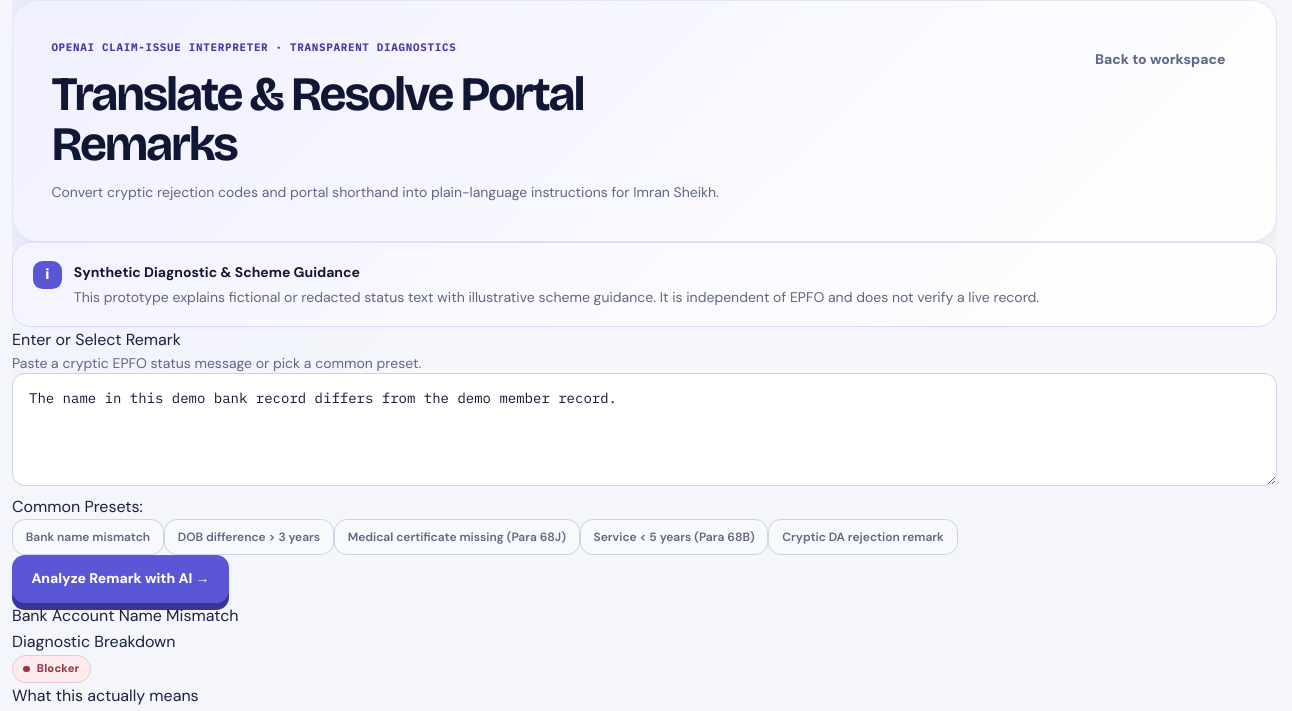
Test: ClaimIssueInterpreter › blocks a sensitive identifier before the AI analysis request
The width and height of the screenshot is (1292, 711).
Replace the text in the text box named "Portal remark text for analysis" with "My UAN is 109988776655" at (644, 430), box [12,373,1277,486]
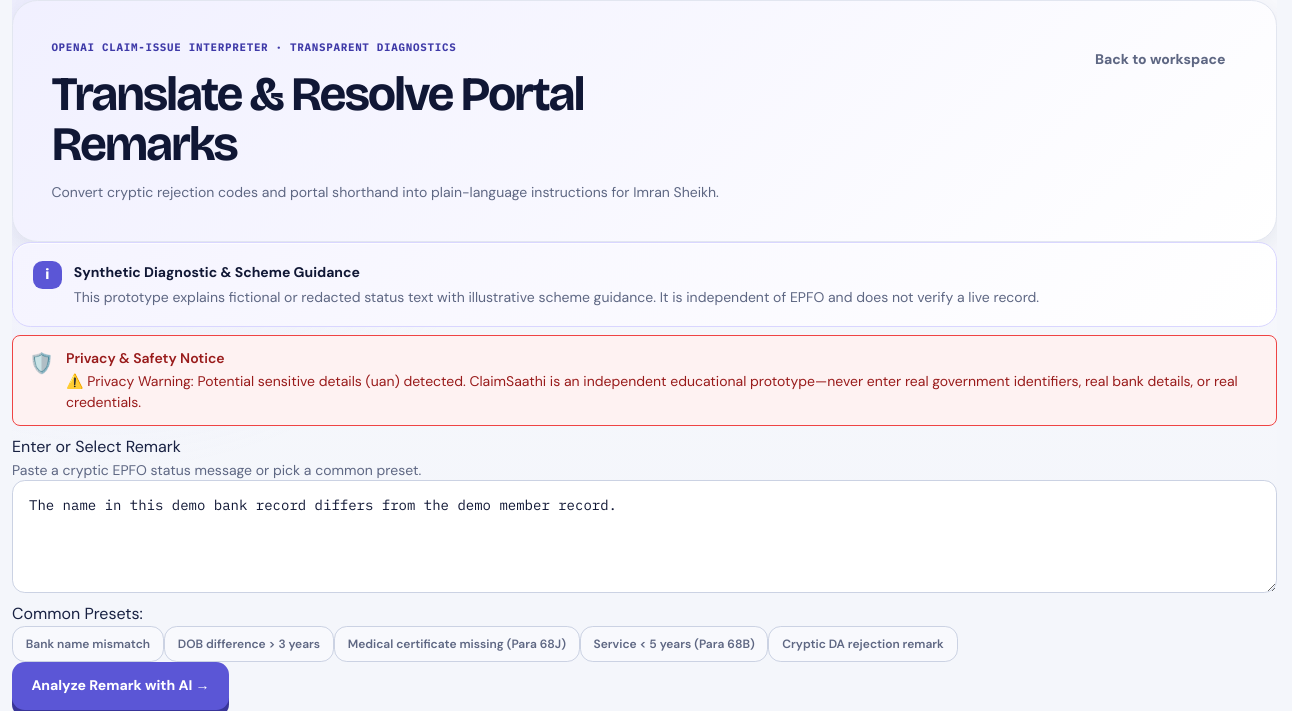
Expected: the text box named "Portal remark text for analysis" does not hold "My UAN is 109988776655", [12,480,1277,593]
Expected: the text "Privacy & Safety Notice" is shown, [66,349,225,367]
